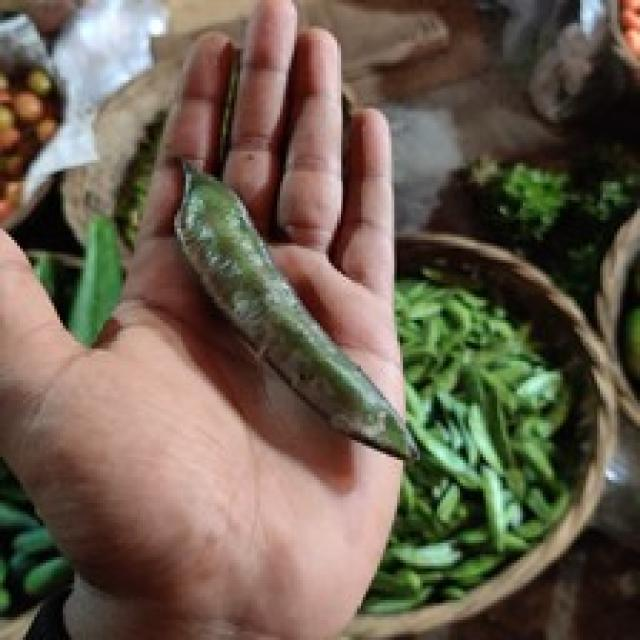Bean: (171, 157, 420, 460)
